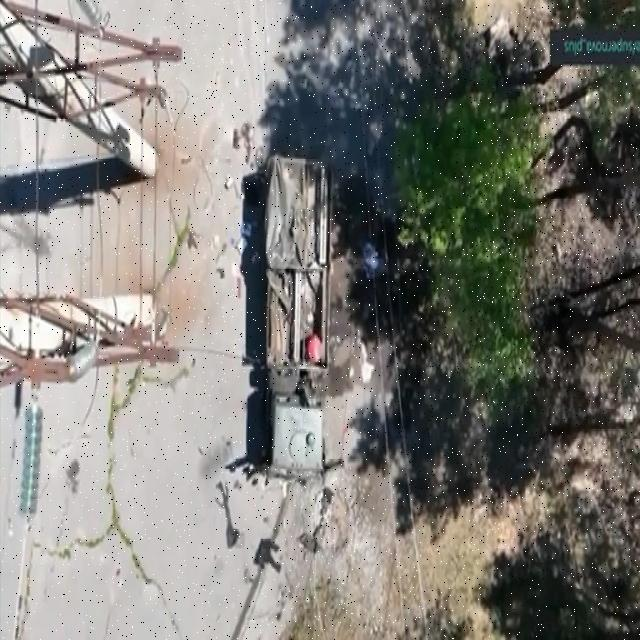TRUCK: (258, 140, 342, 498)
